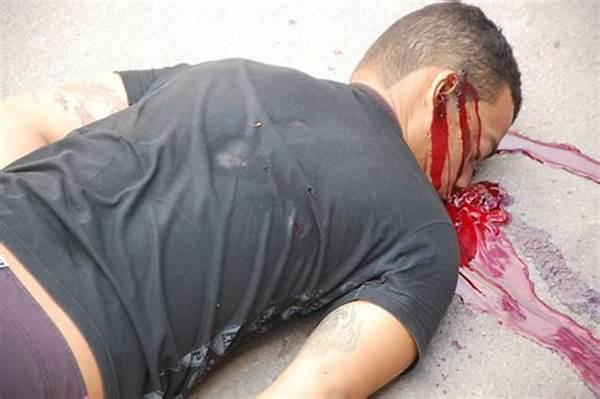Fire: (419, 69, 600, 399), (498, 133, 600, 185)
